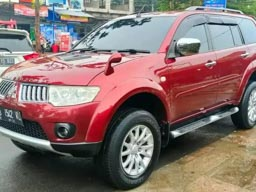plat: (1, 107, 22, 127)
